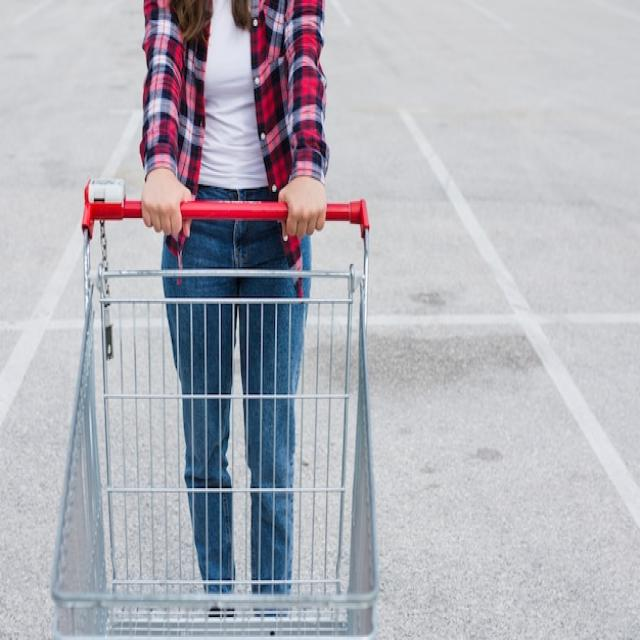Person: (140, 0, 330, 599)
